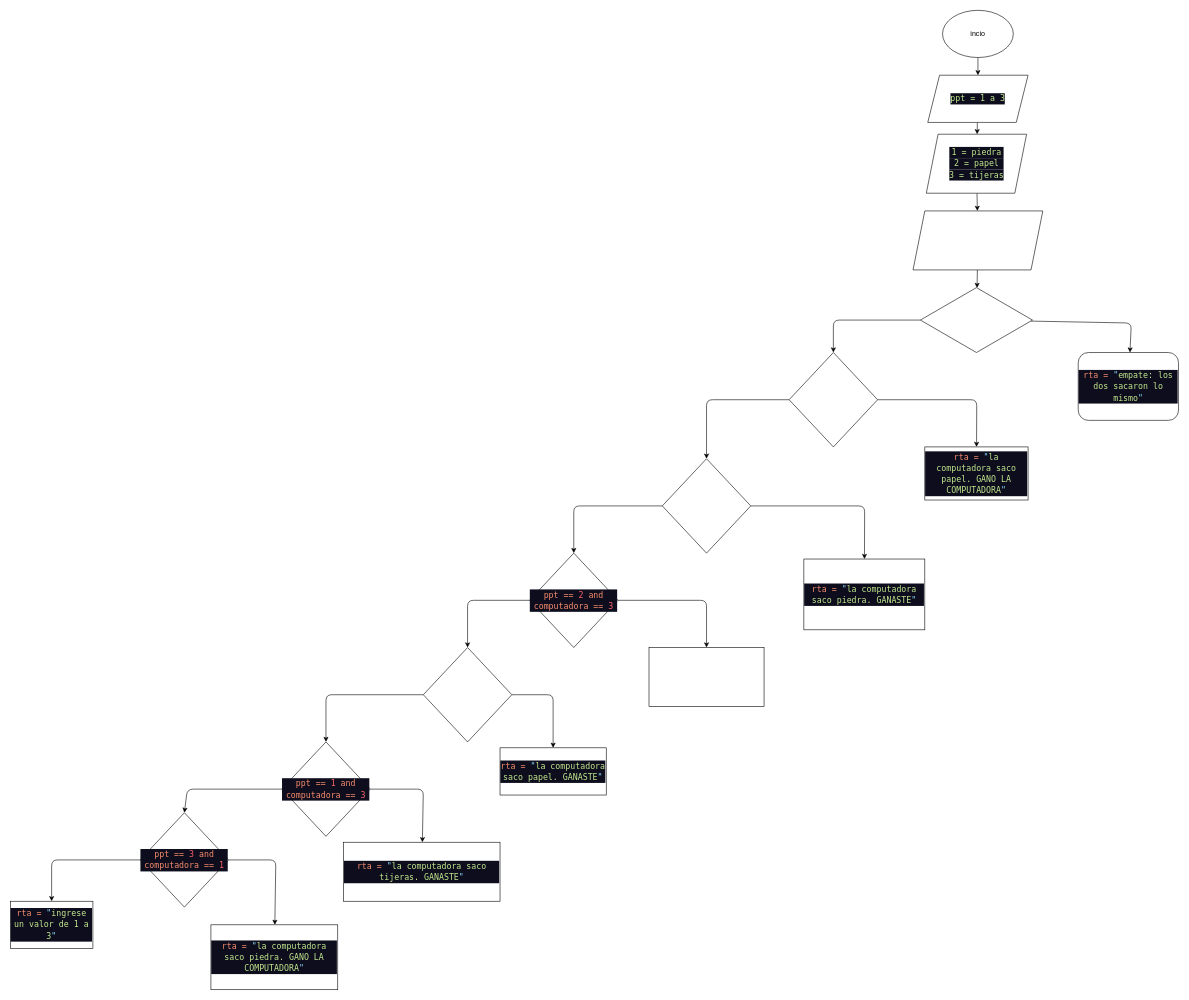
Some shapes in this 1189 by 1000 pixel diagram are drawn without their labels. Here are the shapes that lost their labels. From the top down, the centre of each, then its label:
the point at 977,240: tijerasComputadora = randon (1,3)
the point at 976,320: ppt == computadora
the point at 833,399: ppt == 1 and computadora == 2
the point at 706,505: ppt == 2 and computadora == 1
the point at 467,694: ppt == 3 and computadora == 2
the point at 706,677: rta = " la computadora saco tijeras. GANO LA COMPUTADORA "
